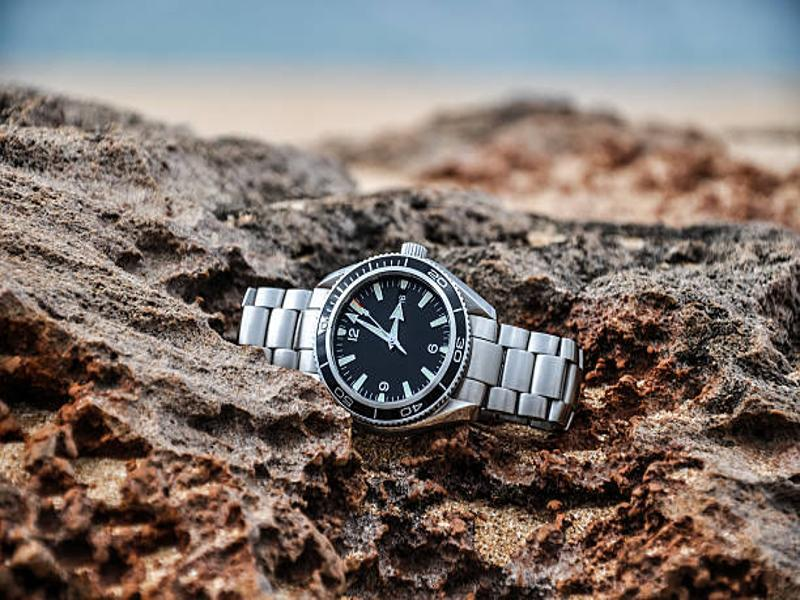watch: (231, 242, 585, 450)
